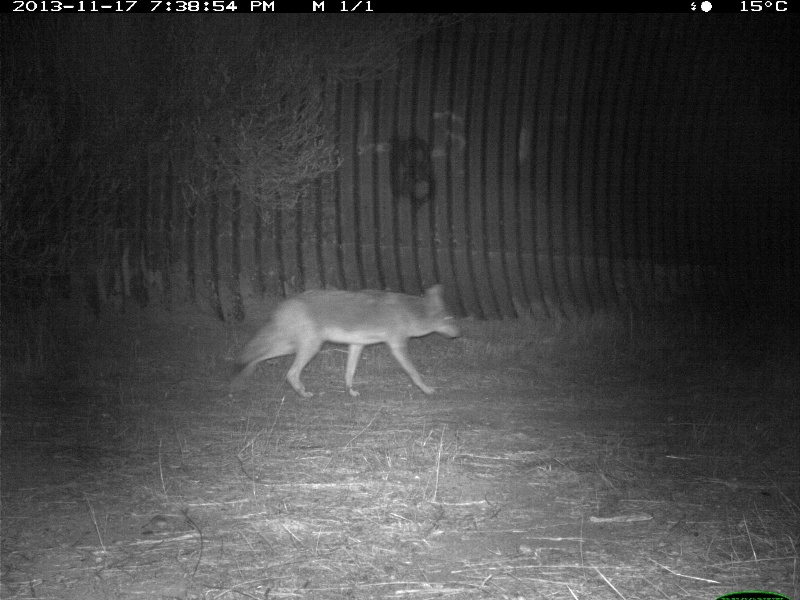coyote: (224, 280, 464, 405)
